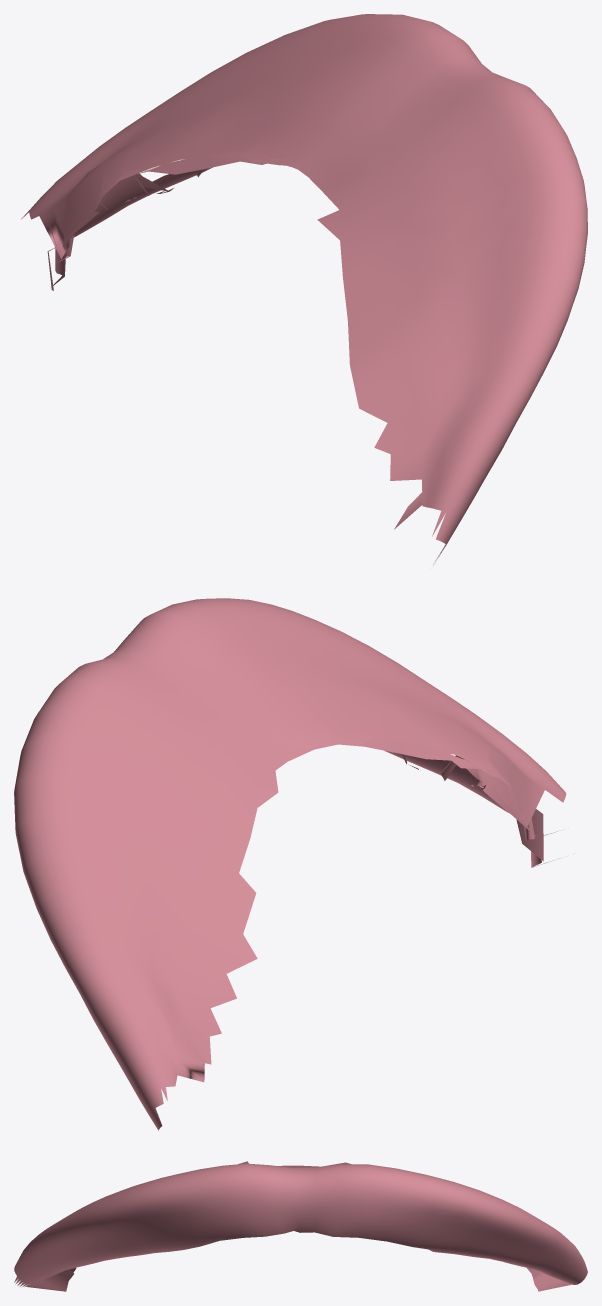
File: component-01-upper.glb
3 views of the same model, one above another, from view 1: azimuth 30°, elevation 25°; view 2: azimuth 150°, elevation 25°; view 3: azimuth 270°, elevation 25° (orthographic). The views are drawn at different scales.
Parts seen in each view (by area): view 1: component-01-upper; view 2: component-01-upper; view 3: component-01-upper.
Boxes of the visible parts, x1,y1,x2,y2 form: component-01-upper: [21, 14, 587, 564]; component-01-upper: [14, 598, 566, 1130]; component-01-upper: [14, 1161, 587, 1291].
Bounding box in the file's own units: 0.365 × 0.3626 × 0.9184.
